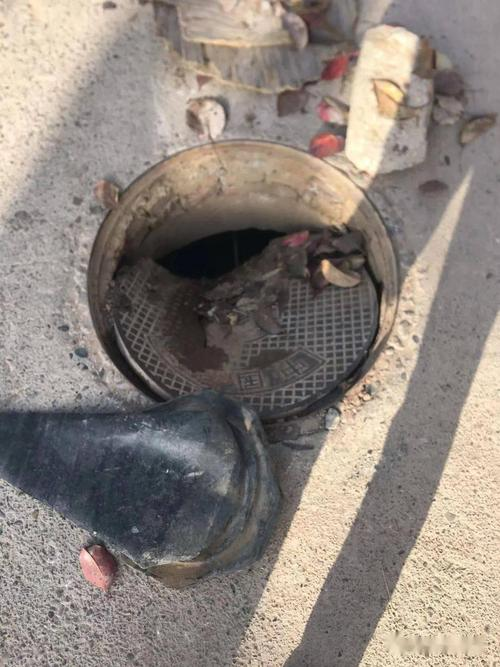broke: (65, 130, 417, 427)
